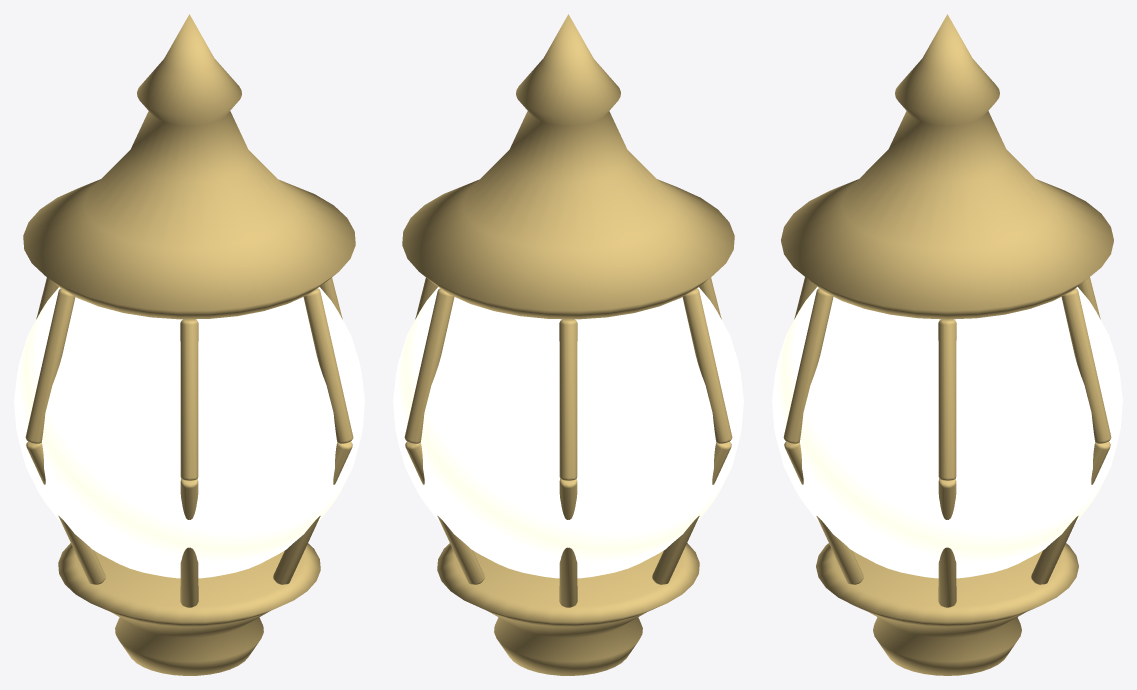
File: lamp_globe.glb
3 views of the same model, side by side, from view 1: azimuth 30°, elevation 25°; view 2: azimuth 150°, elevation 25°; view 3: azimuth 270°, elevation 25° (orthographic).
Parts seen in each view (by area): view 1: lamp_globe; view 2: lamp_globe; view 3: lamp_globe.
Part boxes in pixels (x1,y1,x2,y2): lamp_globe: (14,14,364,675); lamp_globe: (393,14,743,675); lamp_globe: (772,14,1122,675).
Size of the model in its own units: 0.428 by 0.8 by 0.3999.
